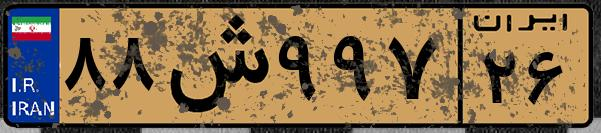2: (475, 38, 525, 113)
6: (525, 38, 570, 115)
7: (385, 28, 445, 110)
8: (57, 26, 110, 100), (110, 28, 158, 98)
9: (270, 28, 330, 110), (330, 28, 385, 110)
ش: (158, 12, 270, 120)
